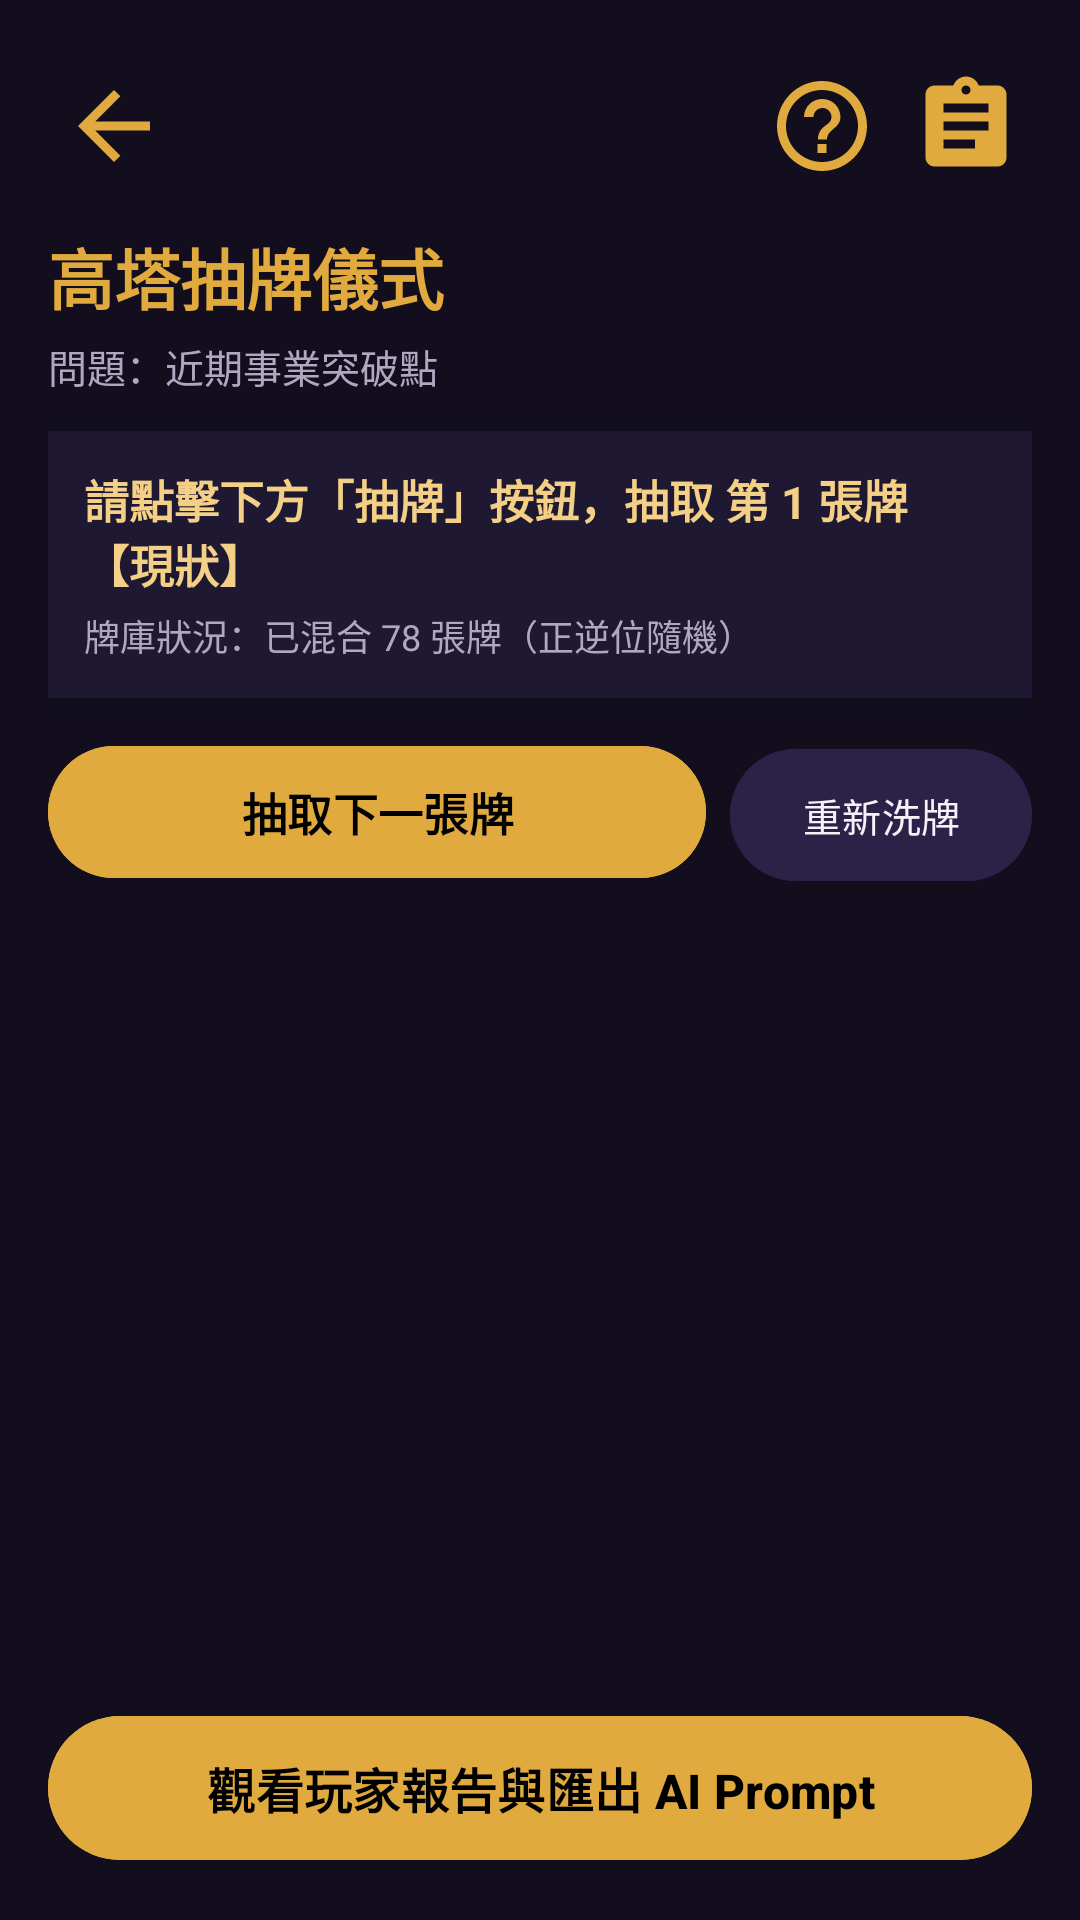

Locate icon controls on the screen. Image size 1080w x 1920h, boxes as {"x1": x1, "y1": y1, "x2": x2, "y2": y2}.
使用說明: {"x1": 777, "y1": 81, "x2": 867, "y2": 171}
歷史記事本: {"x1": 925, "y1": 76, "x2": 1007, "y2": 167}
返回上一頁: {"x1": 78, "y1": 90, "x2": 150, "y2": 162}
